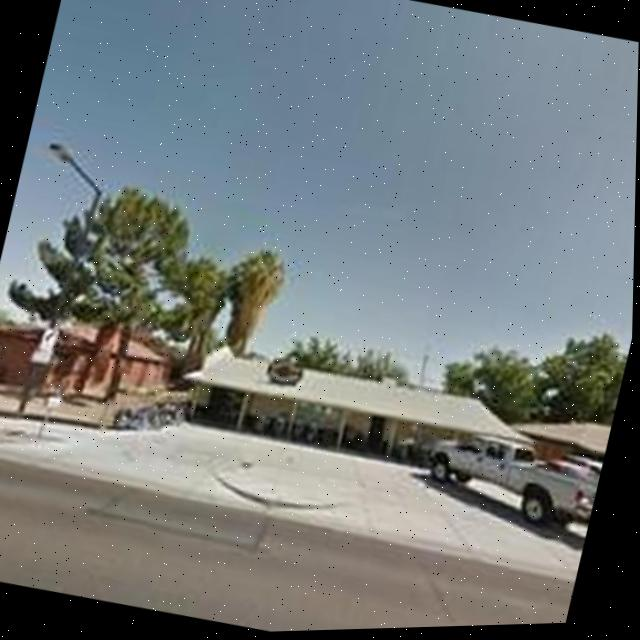building: (174, 328, 544, 500), (0, 304, 173, 419)
